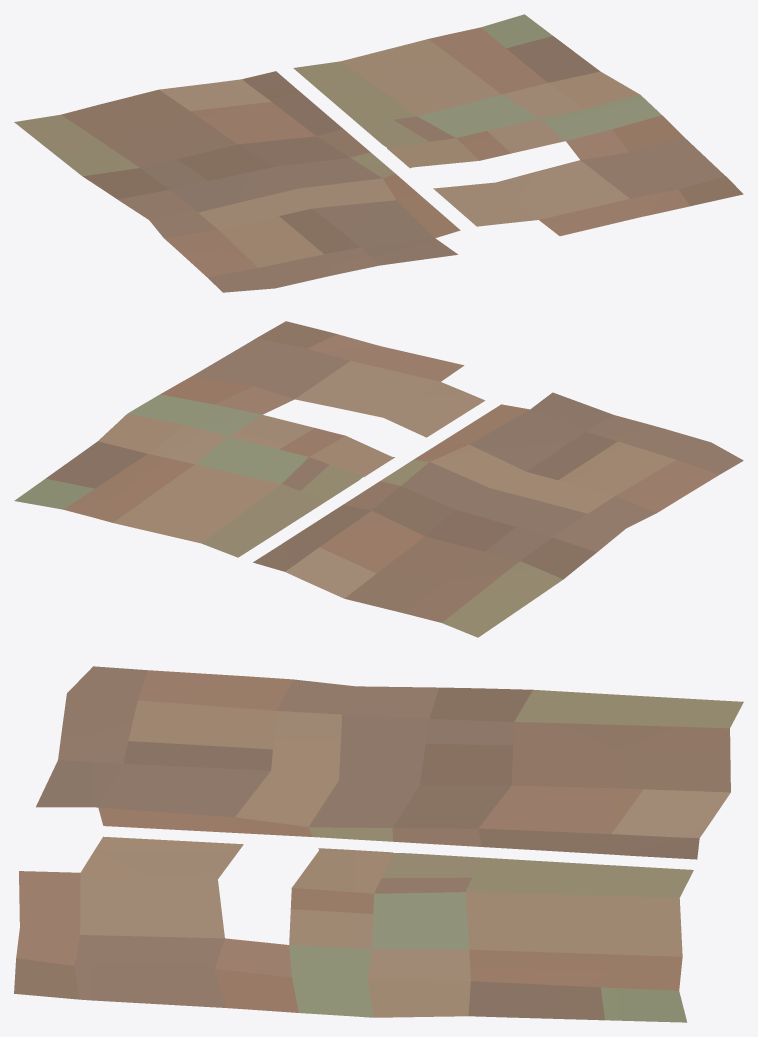
The model's file is farm_20_28_soil.glb.
3 renders of one model, top to bottom at view 1: azimuth 30°, elevation 25°; view 2: azimuth 150°, elevation 25°; view 3: azimuth 270°, elevation 25°, orthographic. The views are drawn at different scales.
Visible parts, largest first — view 1: geometry_0; view 2: geometry_0; view 3: geometry_0.
Boxes of the visible parts, x1,y1,x2,y2 form: geometry_0: (14, 14, 743, 292); geometry_0: (14, 321, 743, 637); geometry_0: (14, 666, 743, 1022).
Bounding box in the file's own units: 248 × 6.02 × 222.
